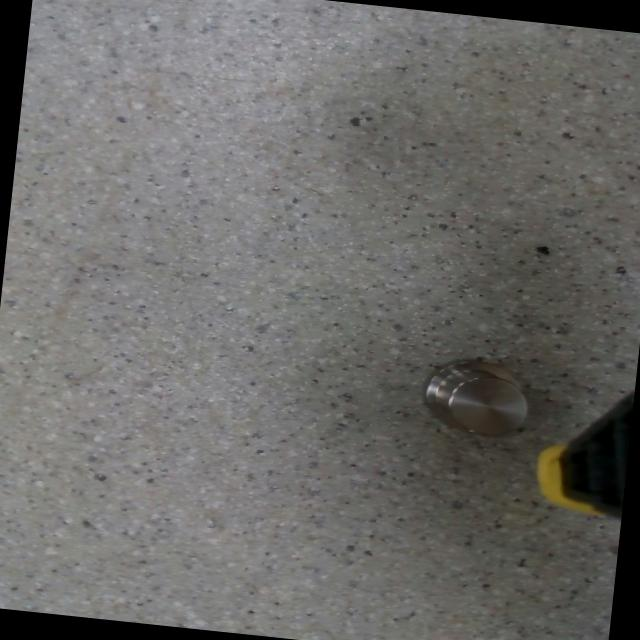sensor: (418, 352, 534, 441)
